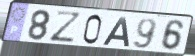0: (82, 13, 103, 45)
6: (159, 19, 185, 52)
8: (26, 9, 52, 42)
9: (131, 17, 160, 49)
A: (101, 15, 131, 47)
Z: (49, 10, 84, 44)
